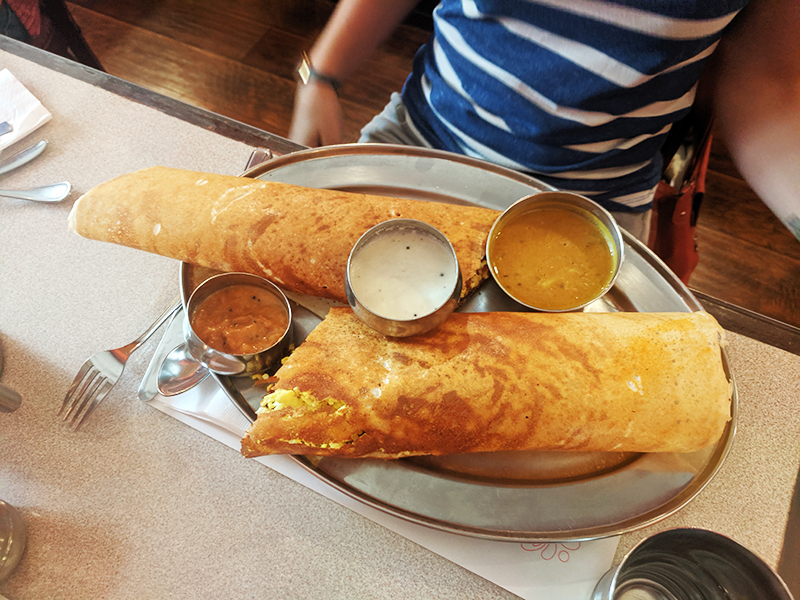dosa: (67, 154, 734, 466)
